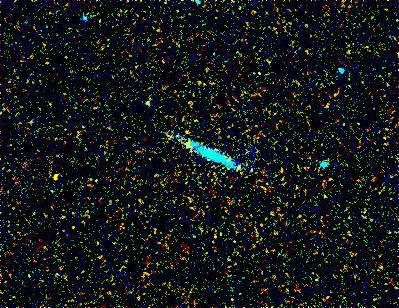star: (41, 162, 71, 192)
